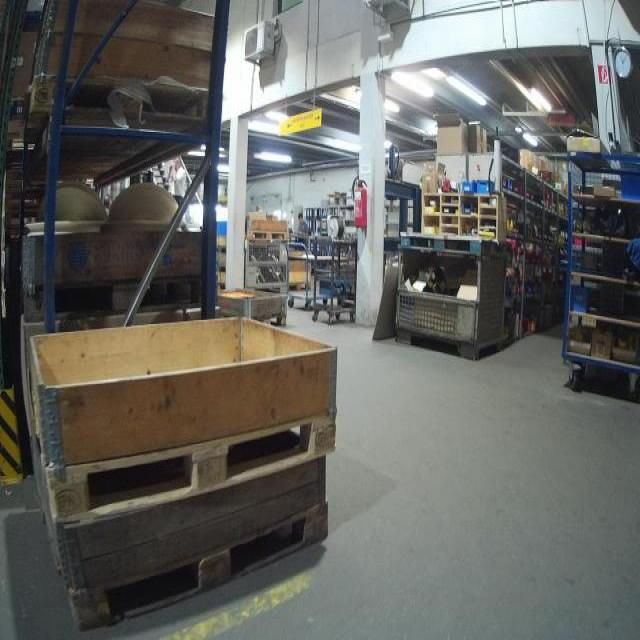pallet: (68, 501, 331, 637), (34, 408, 337, 524), (29, 75, 215, 126), (245, 229, 290, 245)
stillage: (395, 237, 512, 367), (239, 234, 295, 298)
